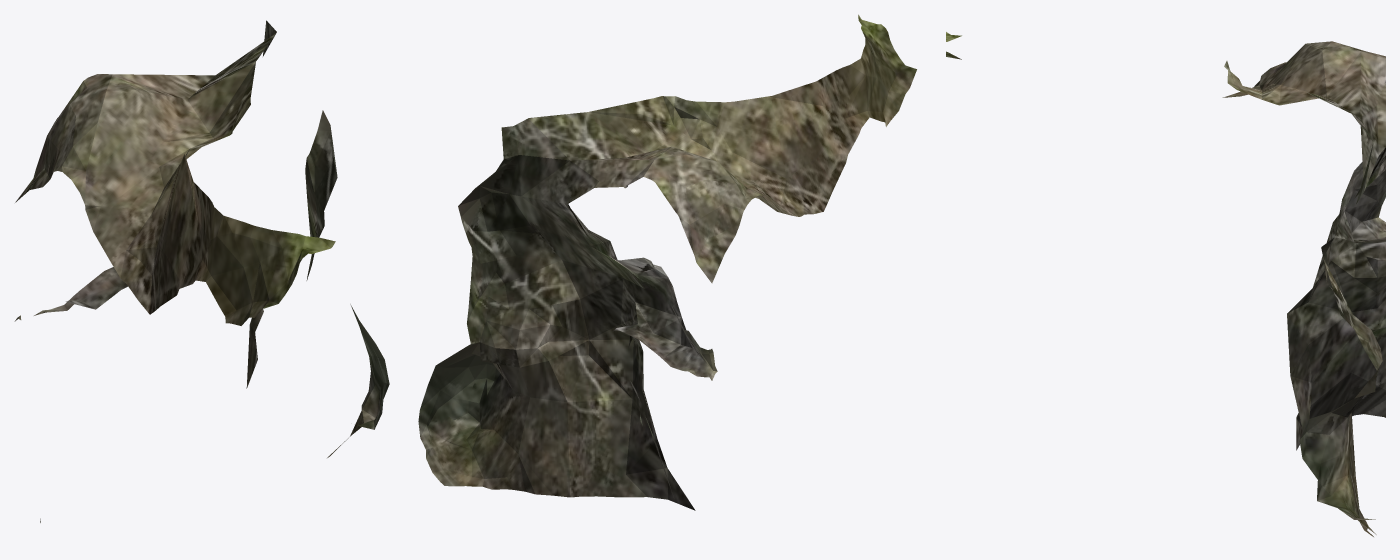
The picture shows the model from 3 angles, left to right: view 1: azimuth 30°, elevation 25°; view 2: azimuth 150°, elevation 25°; view 3: azimuth 270°, elevation 25°; orthographic projection. The views are drawn at different scales.
Bounding box in the file's own units: 2.43 × 2.95 × 2.95.
Materials: 3 (3 with a texture image).
